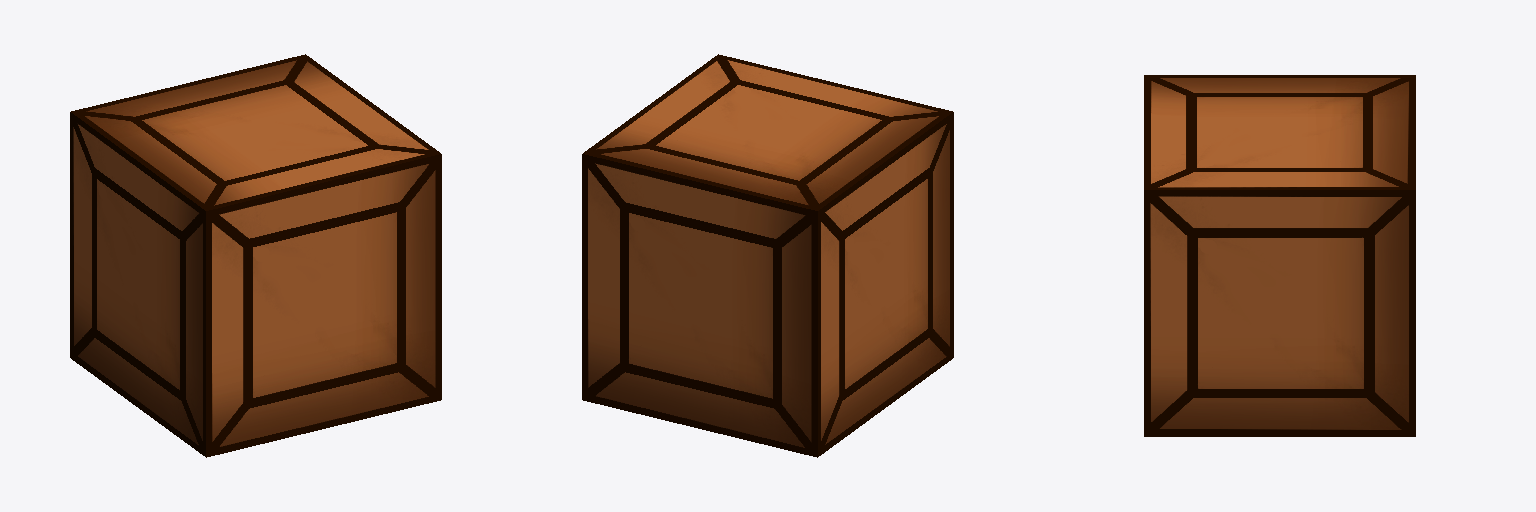
The picture shows the model from 3 angles: view 1: azimuth 30°, elevation 25°; view 2: azimuth 150°, elevation 25°; view 3: azimuth 270°, elevation 25°; orthographic projection.
Parts seen in each view (by area): view 1: Cube; view 2: Cube; view 3: Cube.
Boxes of the visible parts, <box> form: Cube: <box>70,54,441,457</box>; Cube: <box>582,54,953,457</box>; Cube: <box>1144,75,1415,436</box>.
Size of the model in its own units: 2 by 2 by 2.
Materials: 1 (1 with a texture image).